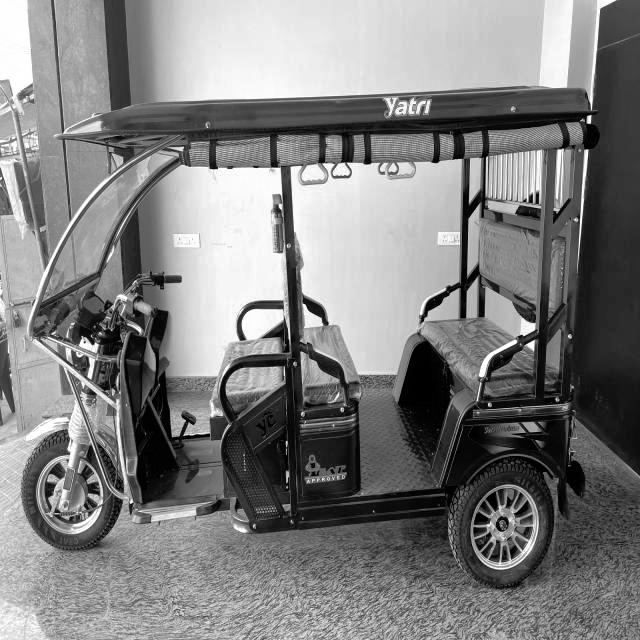Toto: (18, 80, 600, 598)
